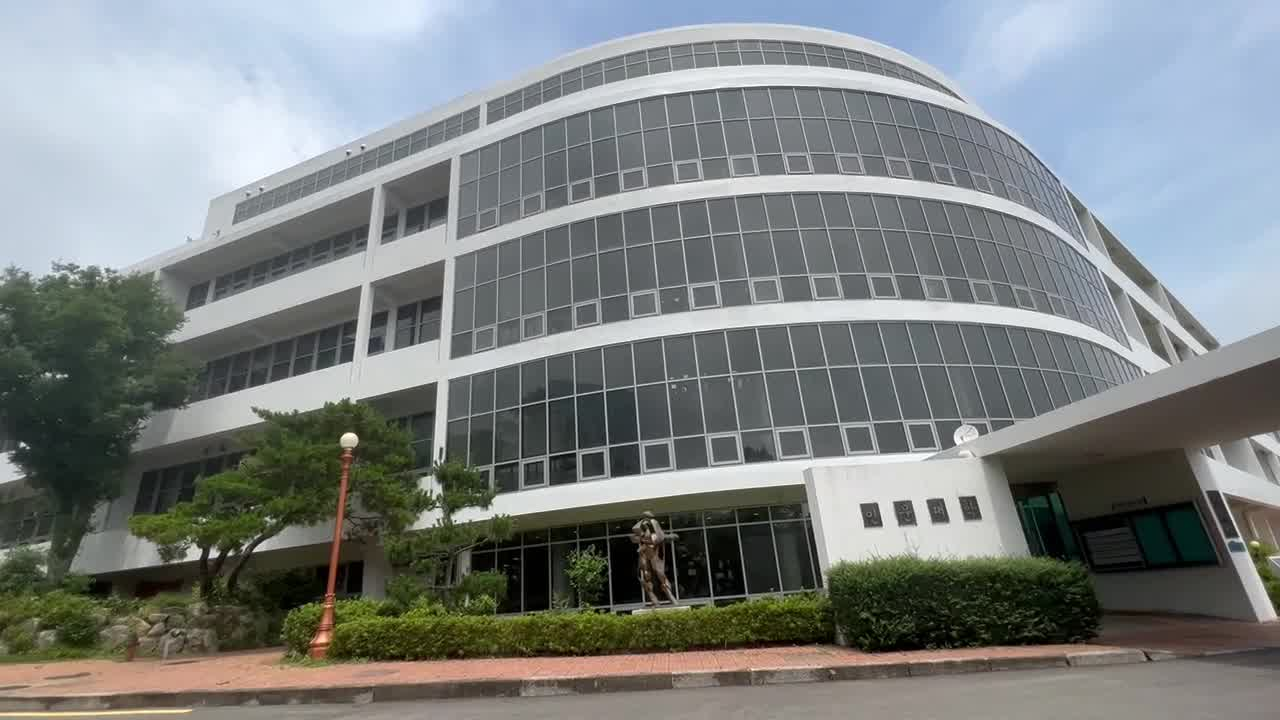low: (474, 39, 1058, 543)
